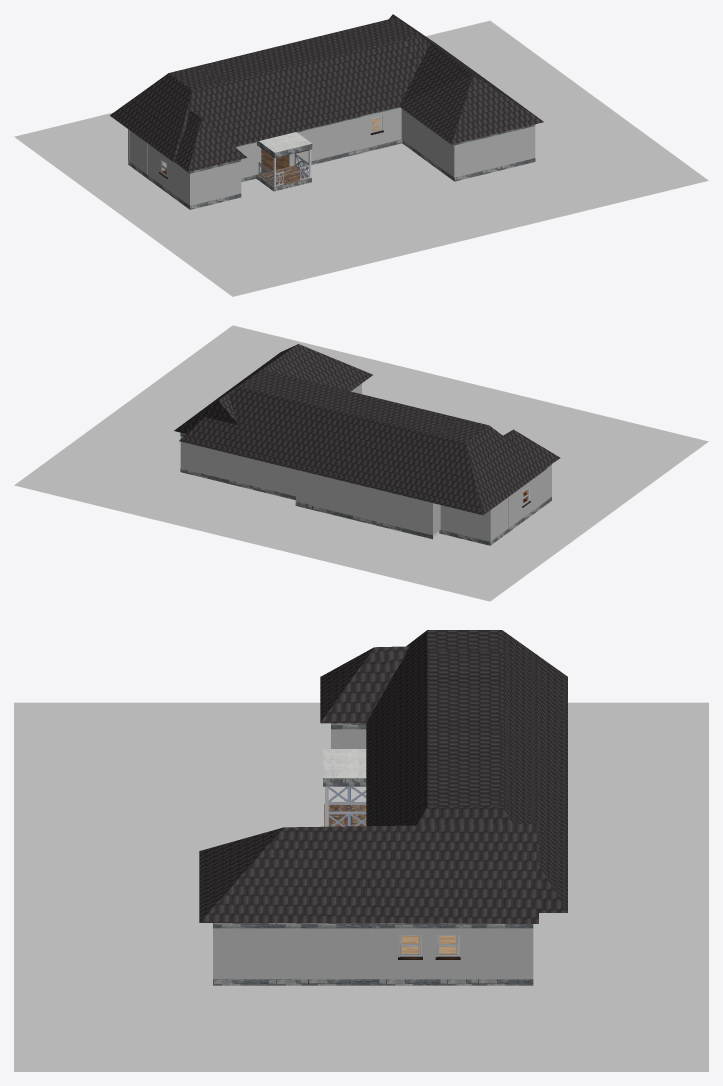
The model's file is dom end.fbx.
3 renders of one model, top to bottom at view 1: azimuth 30°, elevation 25°; view 2: azimuth 150°, elevation 25°; view 3: azimuth 270°, elevation 25°, orthographic. The views are drawn at different scales.
Parts seen in each view (by area): view 1: grass, pyramid, cuboid, garaż_4, ganek, Jadalnia, garaż, biuro; view 2: grass, pyramid, cuboid, Jadalnia_2, kuchnia; view 3: grass, pyramid, cuboid, kuchnia, garaż_4, garaż, garaż_1, kuchnia_1.
Boxes of the visible parts, left/top/right/bottom form: grass: left=14, top=20, right=708, bottom=296; pyramid: left=110, top=14, right=543, bottom=172; cuboid: left=128, top=107, right=535, bottom=205; garaż_4: left=257, top=132, right=312, bottom=157; ganek: left=256, top=165, right=311, bottom=191; Jadalnia: left=241, top=148, right=348, bottom=182; garaż: left=402, top=140, right=535, bottom=181; biuro: left=147, top=170, right=241, bottom=209; grass: left=14, top=325, right=708, bottom=601; pyramid: left=174, top=344, right=560, bottom=515; cuboid: left=180, top=383, right=551, bottom=541; Jadalnia_2: left=307, top=505, right=432, bottom=539; kuchnia: left=180, top=468, right=295, bottom=500; grass: left=14, top=702, right=708, bottom=1071; pyramid: left=199, top=630, right=567, bottom=923; cuboid: left=213, top=729, right=532, bottom=979; kuchnia: left=379, top=928, right=533, bottom=985; garaż_4: left=323, top=749, right=366, bottom=786; garaż: left=213, top=979, right=379, bottom=985; garaż_1: left=213, top=923, right=380, bottom=928; kuchnia_1: left=379, top=923, right=533, bottom=928.
Bounding box in the file's own units: 1162 × 298 × 925.
